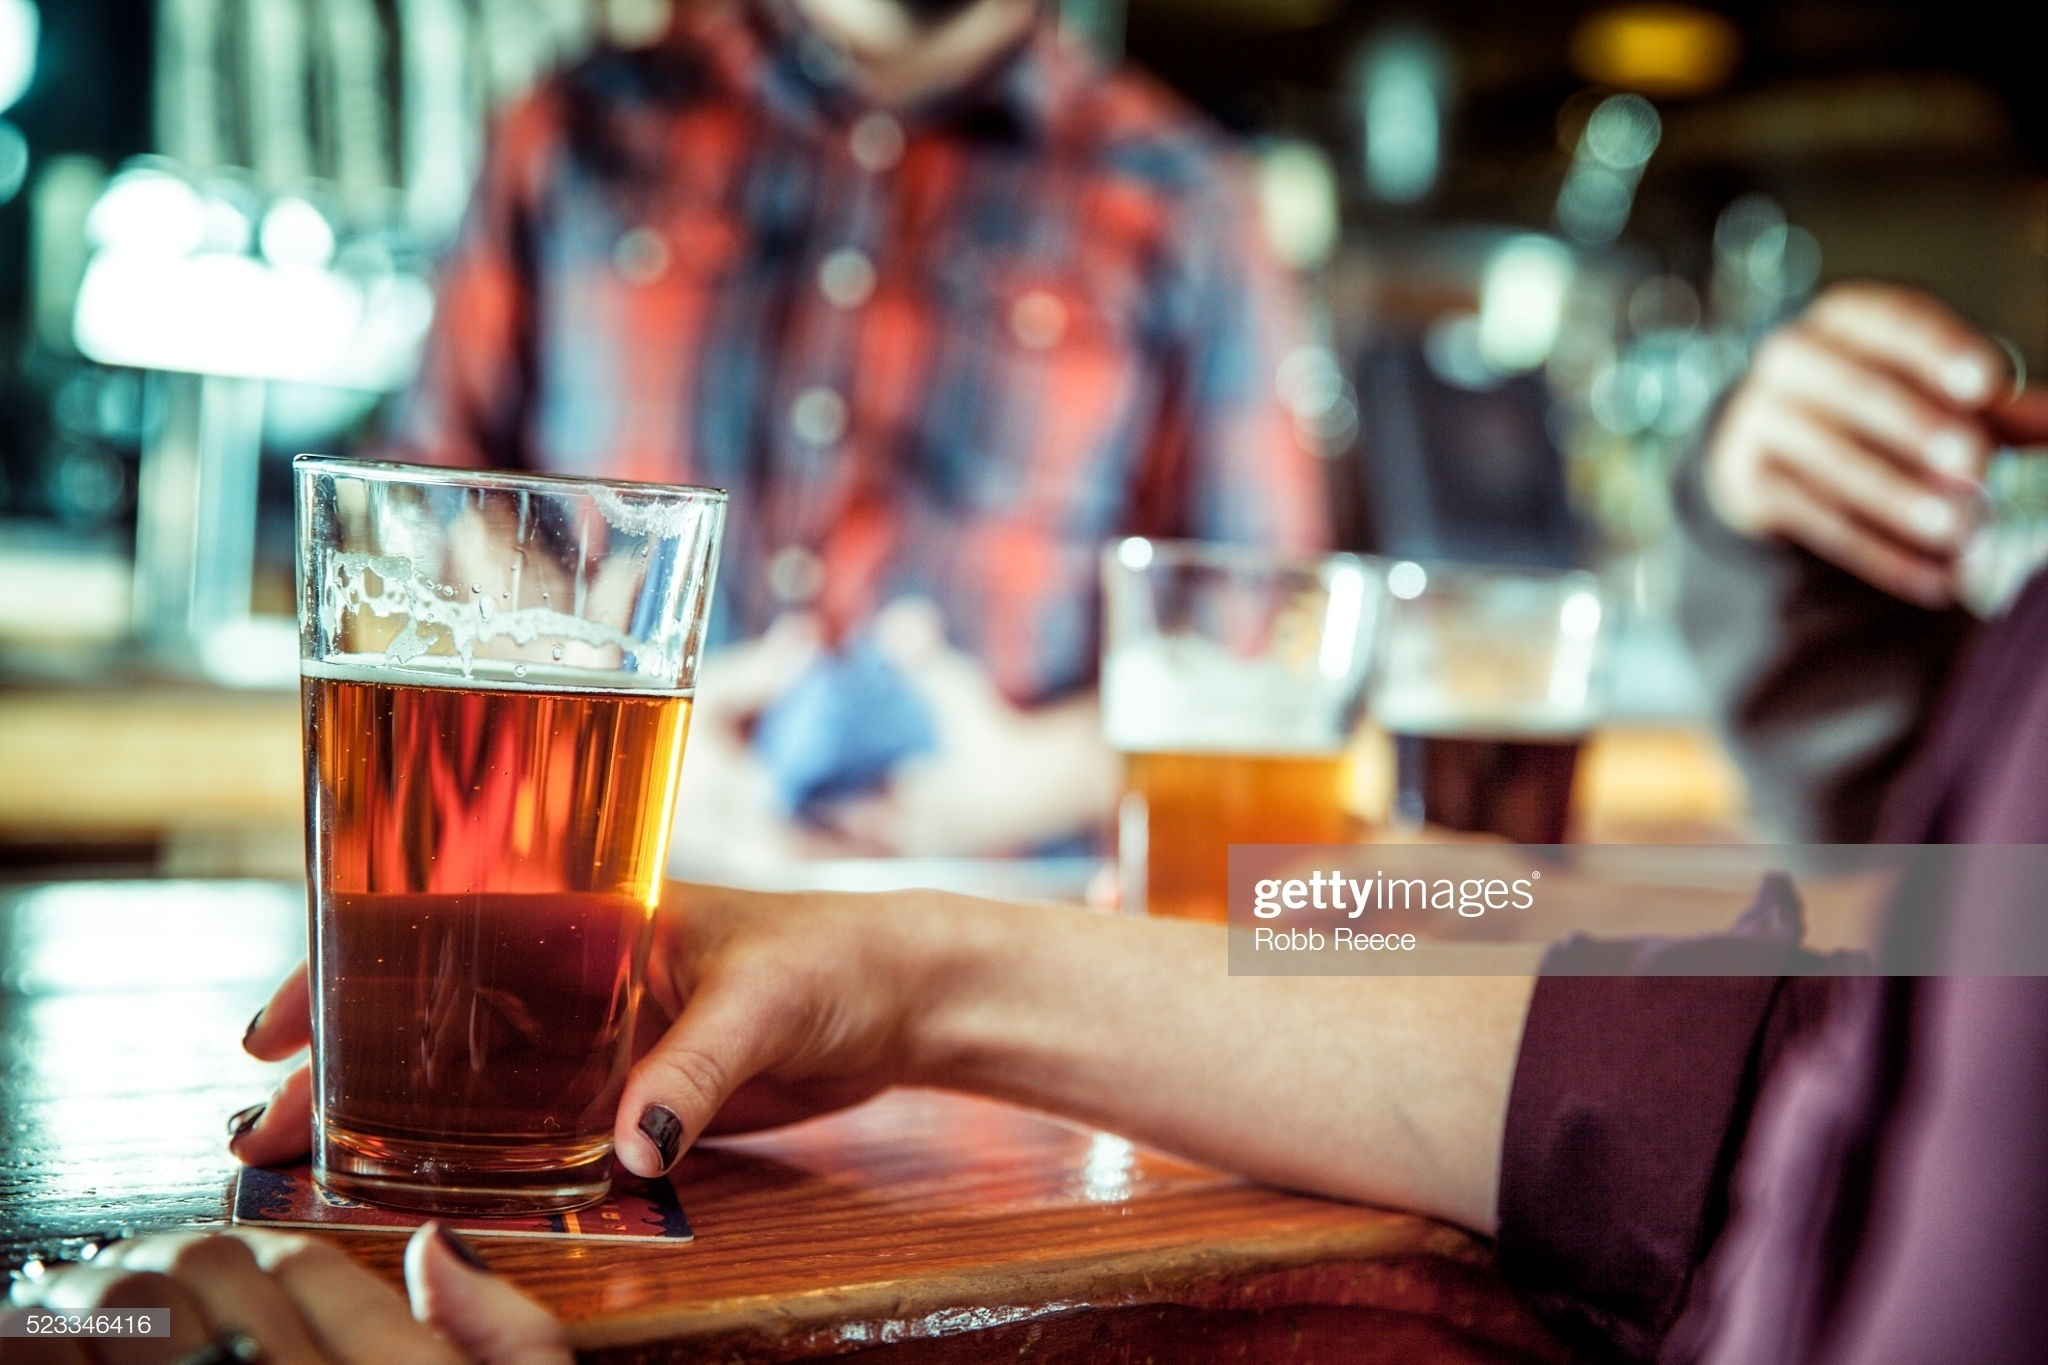whiskey: (253, 460, 749, 1223)
